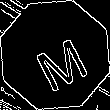M_NW: (23, 22, 87, 88)
